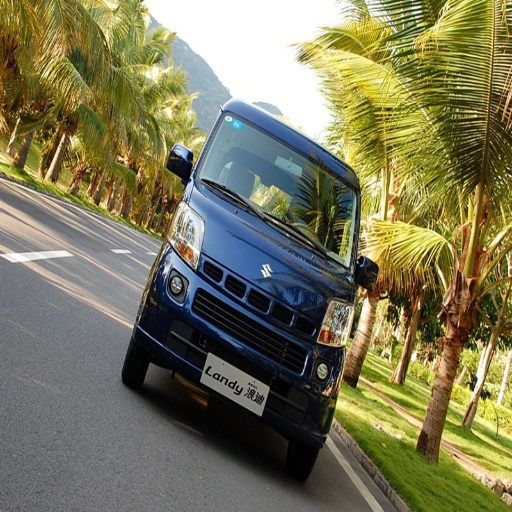front_bumper: (138, 229, 342, 435)
front_right_light: (171, 209, 203, 268)
